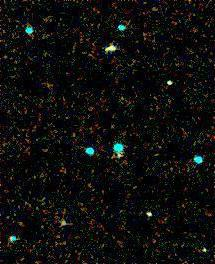star: (93, 32, 123, 62)
